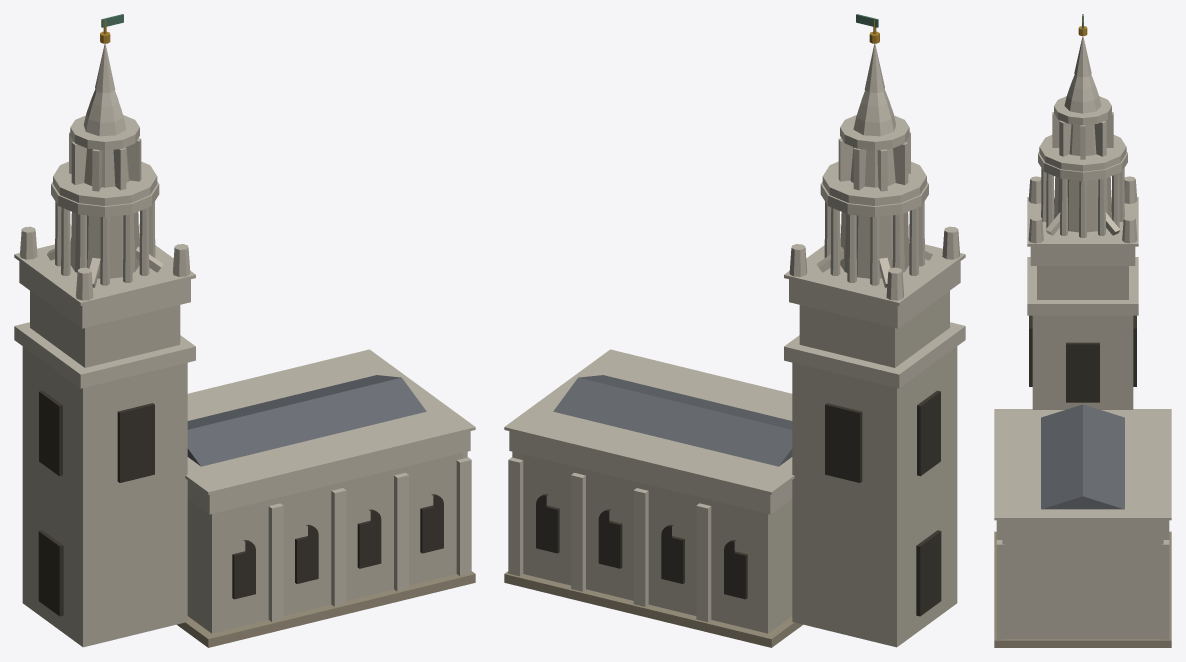
Rendered from wren_church_bow.glb.
3 views of the same model, side by side, from view 1: azimuth 30°, elevation 25°; view 2: azimuth 150°, elevation 25°; view 3: azimuth 270°, elevation 25° (orthographic). The views are drawn at different scales.
Visible parts, largest first — view 1: wren_church_bow; view 2: wren_church_bow; view 3: wren_church_bow.
Part boxes in pixels (left/top/right/bottom): wren_church_bow: left=14, top=14, right=475, bottom=647; wren_church_bow: left=504, top=14, right=965, bottom=647; wren_church_bow: left=994, top=14, right=1171, bottom=647.
Bounding box in the file's own units: 44.9 × 68.9 × 22.
